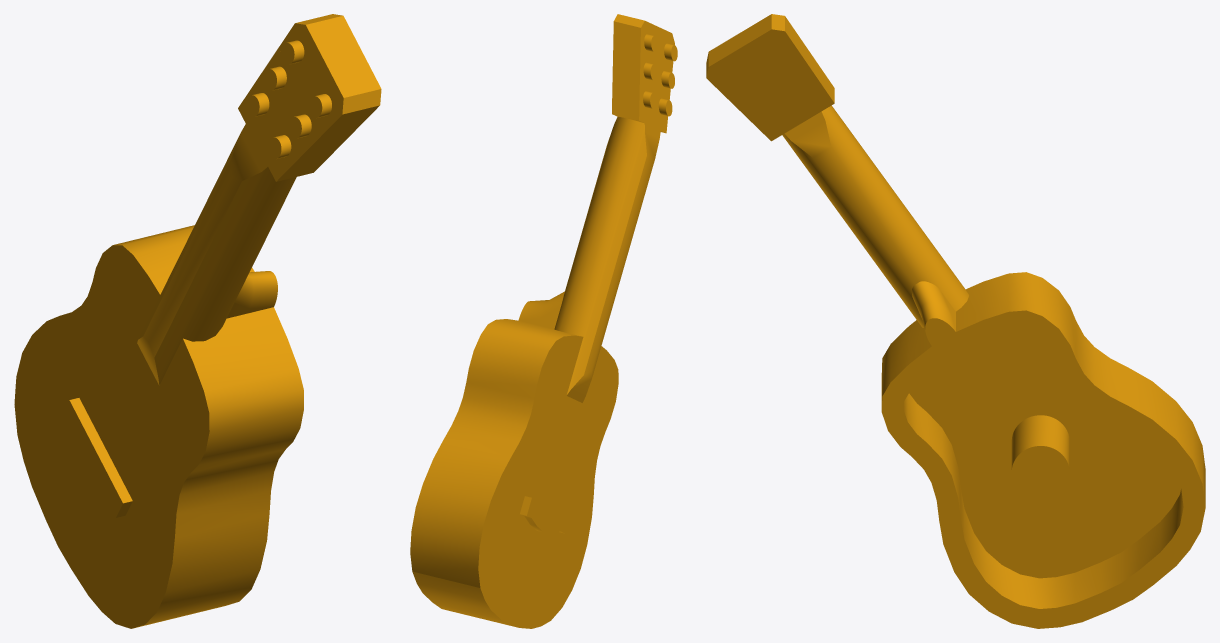
File: minfig_utensil_guiter_acoustic_with_black_neck_and_silver_strings_pattern_yellow.obj
3 renders of one model, left to right at view 1: azimuth 30°, elevation 25°; view 2: azimuth 150°, elevation 25°; view 3: azimuth 270°, elevation 25°, orthographic. The views are drawn at different scales.
Size of the model in its own units: 14 by 89.53 by 68.81.
